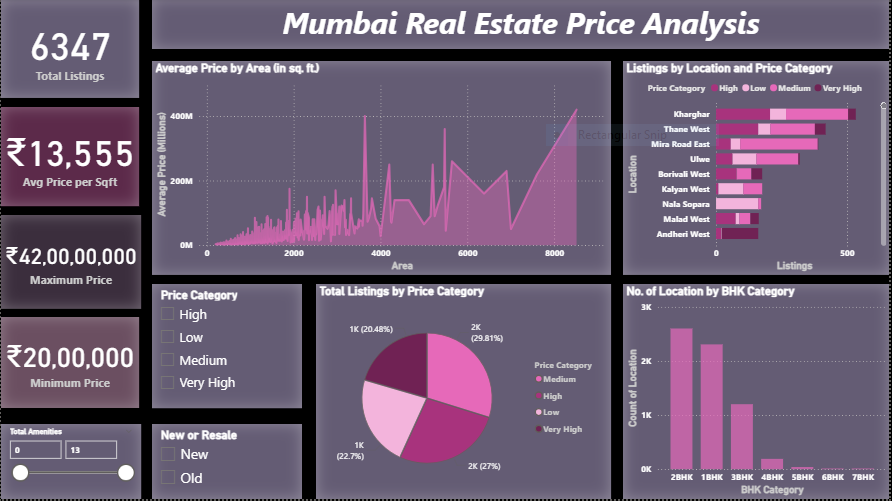

The page's visual inventory and layout, read from the dashboard file:
{"tool":"powerbi","page":{"name":"Page 1","canvas":[1280,720],"ordinal":0},"visuals":[{"type":"textbox","box":[217.4,0,1062.7,72],"z":0},{"type":"card","fields":{"Values":["Mumbai1.Total Listings"]},"box":[0,1.4,198.7,141.1],"z":1000},{"type":"card","fields":{"Values":["Mumbai1.Avg Price per Sqft"]},"box":[0,155.5,198.7,142.6],"z":2000},{"type":"card","fields":{"Values":["Max(Mumbai1.Price)"]},"box":[0,311,201.6,135.4],"z":3000},{"type":"card","fields":{"Values":["Min(Mumbai1.Price)"]},"box":[0,457.9,198.7,131],"z":4000},{"type":"barChart","fields":{"Category":["Mumbai1.Location"],"Series":["Mumbai1.Price Category"],"Y":["Mumbai1.Total Listings"]},"box":[895.7,89.3,384.5,308.2],"z":5000},{"type":"stackedAreaChart","title":"Average Price by Area (in sq. ft.)","fields":{"Y":["Avg(Mumbai1.Price)","select"],"Category":["Mumbai1.Area"]},"box":[217.4,89.3,661,308.2],"z":6000},{"type":"pieChart","fields":{"Category":["Mumbai1.Price Category"],"Y":["Mumbai1.Total Listings"]},"box":[453.6,410.4,424.8,309.6],"z":7000},{"type":"columnChart","title":"No. of Location by BHK Category","fields":{"Y":["CountNonNull(Mumbai1.Location)"],"Category":["Mumbai1.BHK Category"]},"box":[895.7,410.4,384.5,309.6],"z":8000},{"type":"slicer","fields":{"Values":["Mumbai1.Price Category"]},"box":[217.4,410.4,216,178.6],"z":9000},{"type":"slicer","fields":{"Values":["Mumbai1.Total Amenities"]},"box":[0,612,201.6,108],"z":10000},{"type":"slicer","fields":{"Values":["Mumbai1.Is_New"]},"box":[217.4,612,216,108],"z":11000}]}

Visuals, with their boxes in screenshot pixels (x1, y1, x2, y2), scaled from the page's 1280x720 canvas onto the 892x501 screenshot:
textbox: box=[152, 0, 891, 50]
card - Mumbai1.Total Listings: box=[0, 1, 138, 99]
card - Mumbai1.Avg Price per Sqft: box=[0, 108, 138, 207]
card - Max(Mumbai1.Price): box=[0, 216, 140, 311]
card - Min(Mumbai1.Price): box=[0, 319, 138, 410]
barChart - Mumbai1.Location x Mumbai1.Price Category: box=[624, 62, 891, 277]
"Average Price by Area (in sq. ft.)" stackedAreaChart: box=[152, 62, 612, 277]
pieChart - Mumbai1.Price Category x Mumbai1.Total Listings: box=[316, 286, 612, 500]
"No. of Location by BHK Category" columnChart: box=[624, 286, 891, 500]
slicer - Mumbai1.Price Category: box=[152, 286, 302, 410]
slicer - Mumbai1.Total Amenities: box=[0, 426, 140, 500]
slicer - Mumbai1.Is_New: box=[152, 426, 302, 500]
